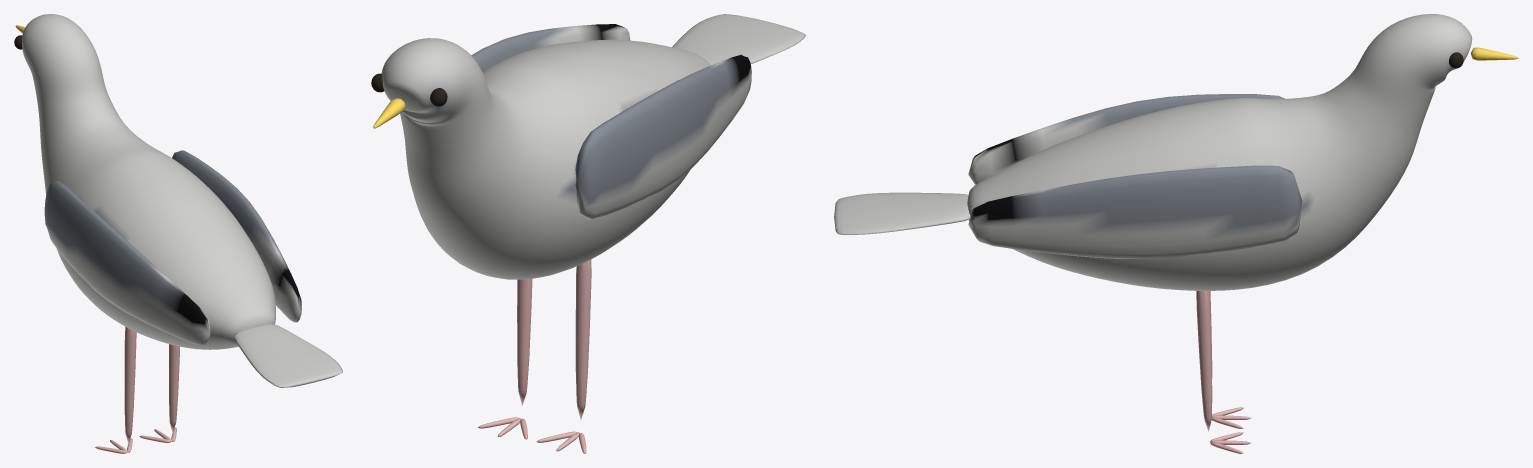
File: seagull_standing.gltf
3 views of the same model, side by side, from view 1: azimuth 30°, elevation 25°; view 2: azimuth 150°, elevation 25°; view 3: azimuth 270°, elevation 25° (orthographic). The views are drawn at different scales.
Parts seen in each view (by area): view 1: seagull; view 2: seagull; view 3: seagull.
Boxes of the visible parts, <box> form: seagull: <box>14,14,342,453</box>; seagull: <box>371,14,805,453</box>; seagull: <box>834,14,1518,453</box>.
Bounding box in the file's own units: 0.2183 × 0.4976 × 0.7447.
